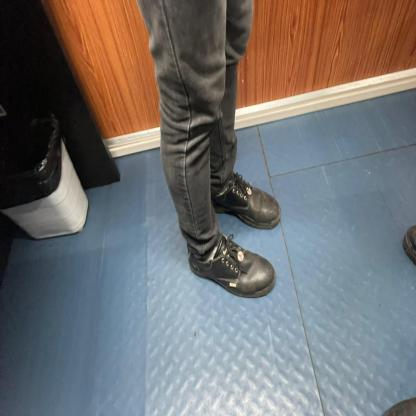bota: (187, 233, 277, 300), (215, 170, 282, 232)
